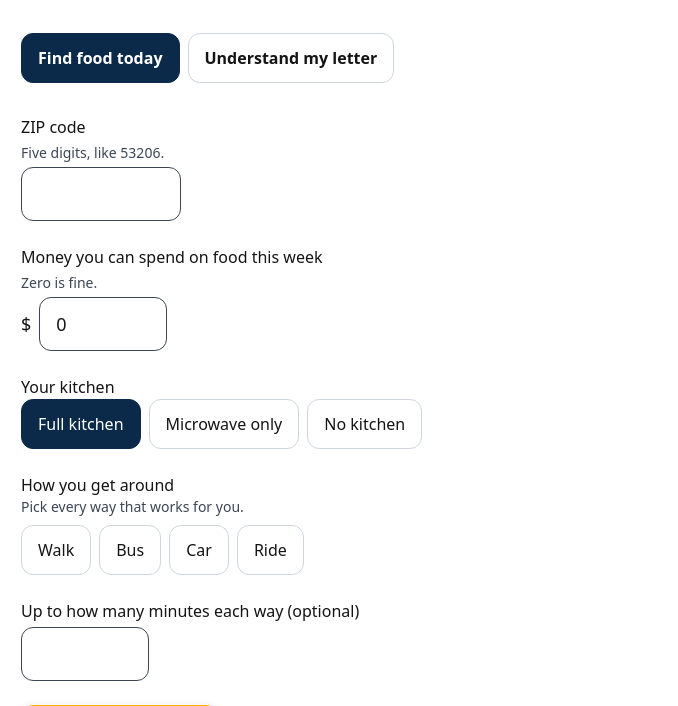
Test case: Food today page › refuses a four-digit ZIP and sends nothing
In the field labelled "ZIP code": (101, 194) [21,167,181,221], type "5320"
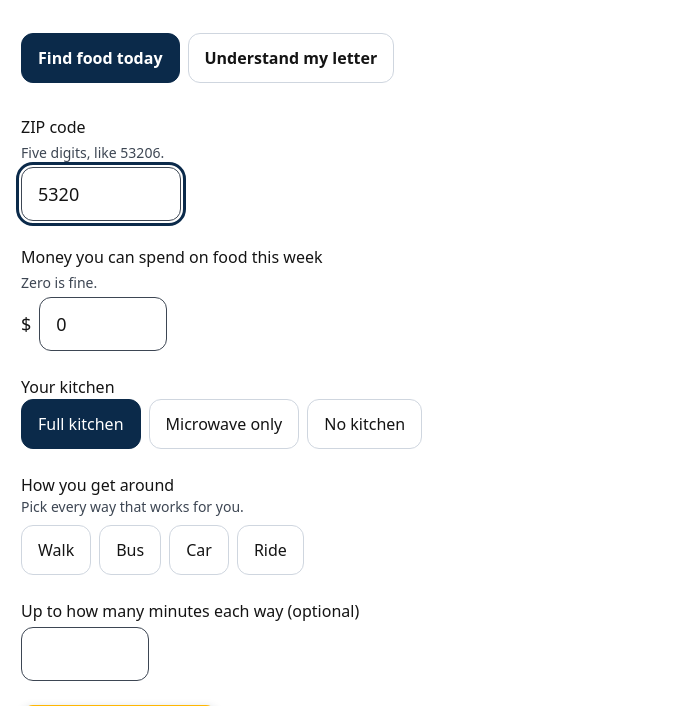
Click the checkbox labelled "Bus": click(130, 550) [99,525,161,575]
(page scrolled)
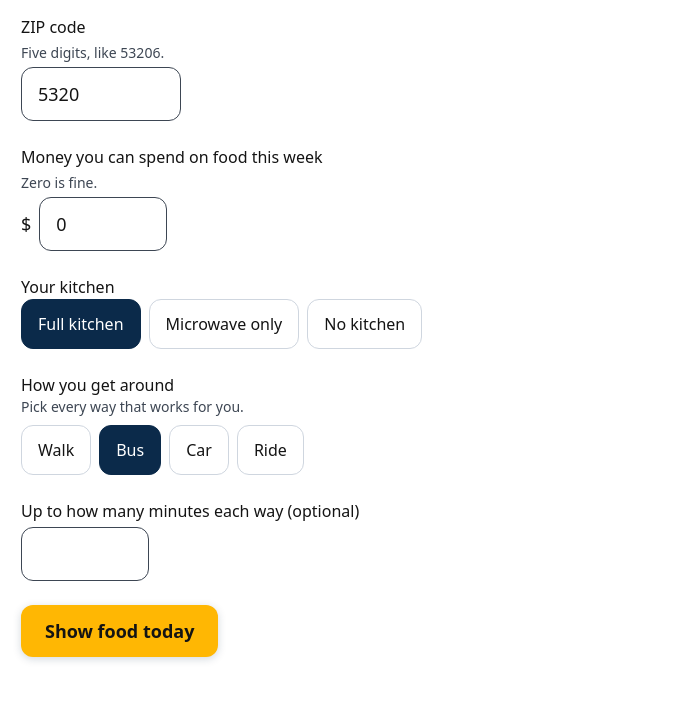
Click the button "Show food today": click(120, 631) [21,605,218,657]
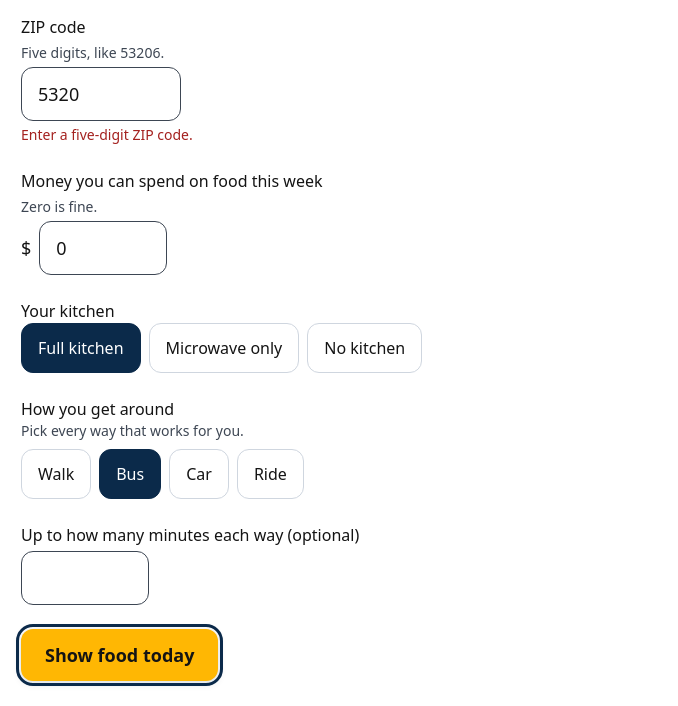
Now the message reads "Enter a five-digit ZIP code.", box [21,125,193,144]
